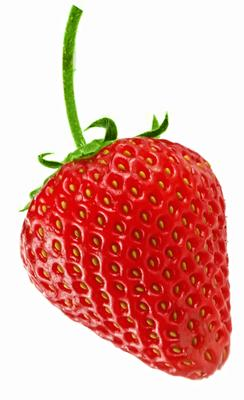strawberry: (0, 0, 244, 400)
